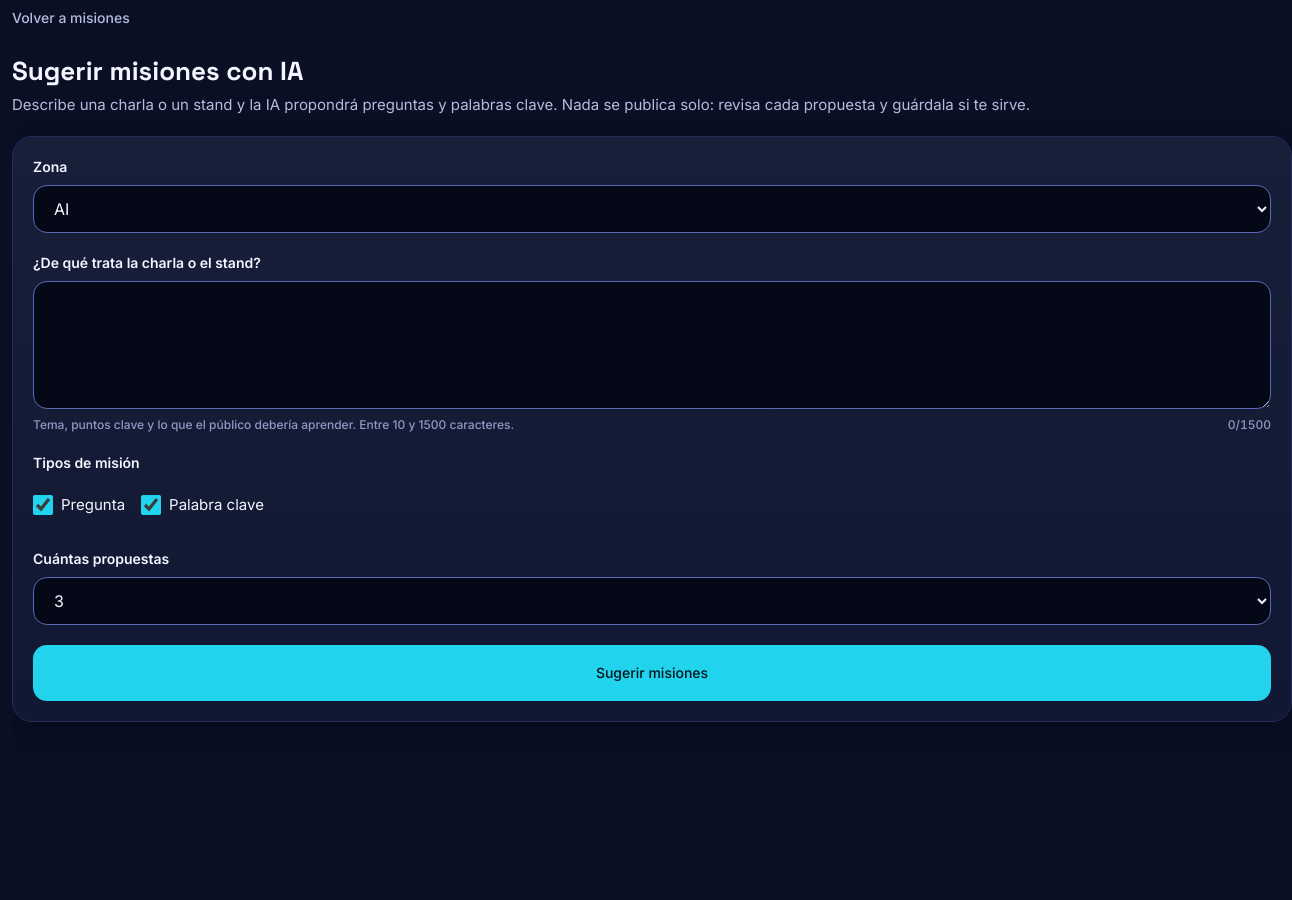
SuggestMissionsView › checks the topic and the types before asking
In the text box labelled "¿De qué trata la charla o el stand?": (652, 345) top-left (33, 281), bottom-right (1271, 409), type "corto"
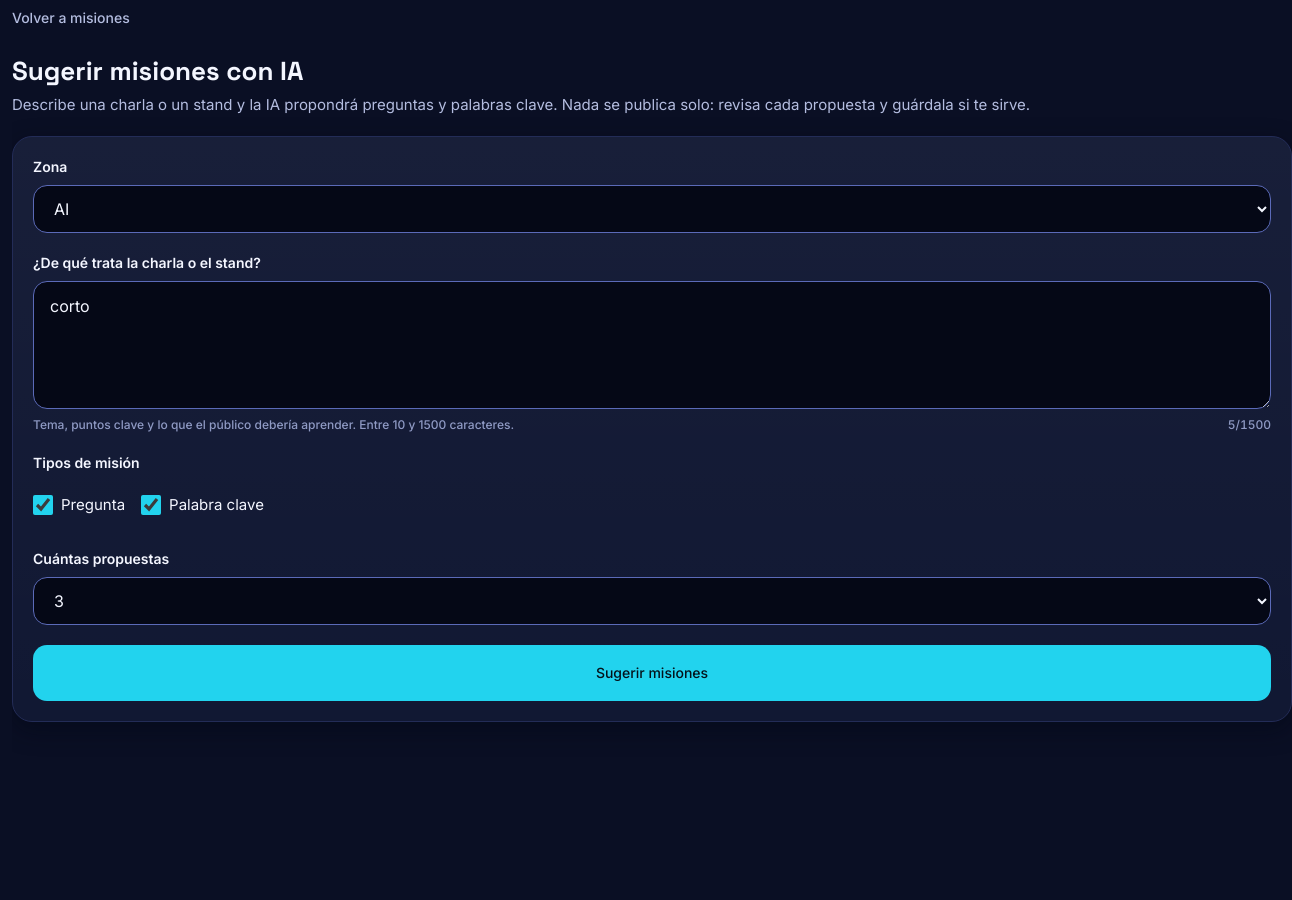
Click the button "Sugerir misiones": click(652, 673) top-left (33, 645), bottom-right (1271, 701)
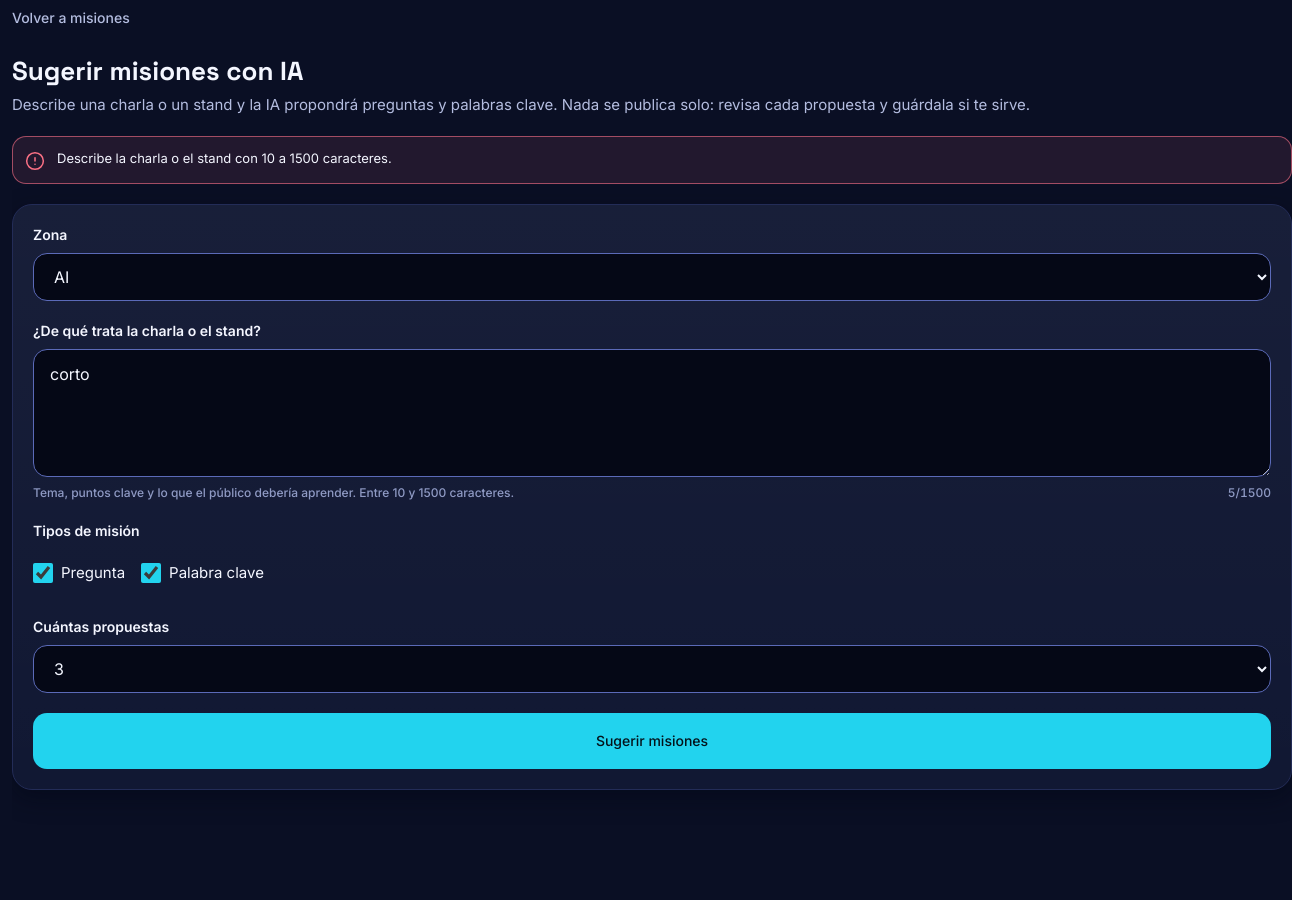
Expected: the message reads "Describe la charla o el stand con 10 a 1500 caracteres.", top-left (57, 150), bottom-right (392, 166)
Click the checkbox labelled "Pregunta": click(43, 573) top-left (33, 563), bottom-right (53, 583)
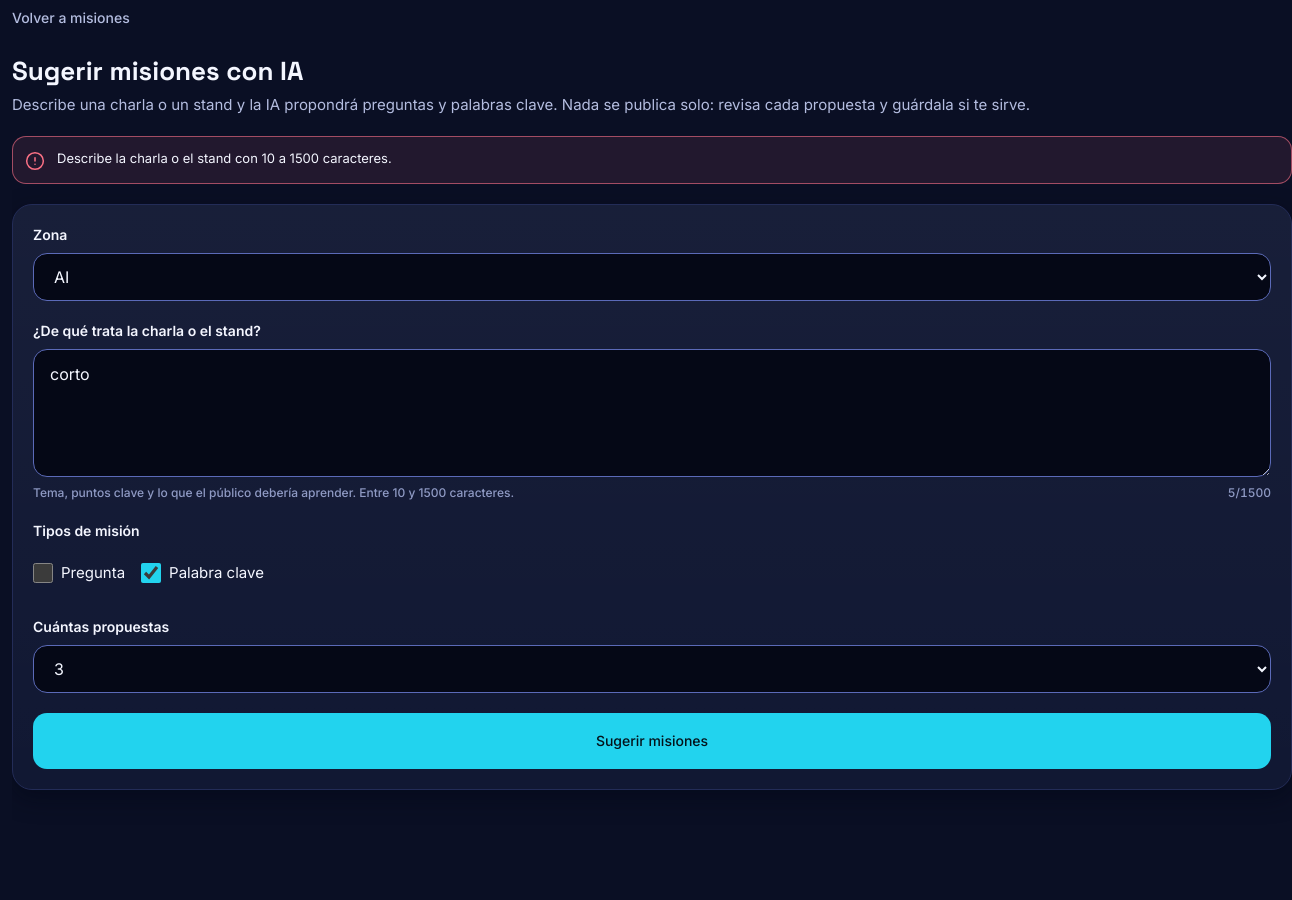
Click the checkbox labelled "Palabra clave": click(151, 573) top-left (141, 563), bottom-right (161, 583)
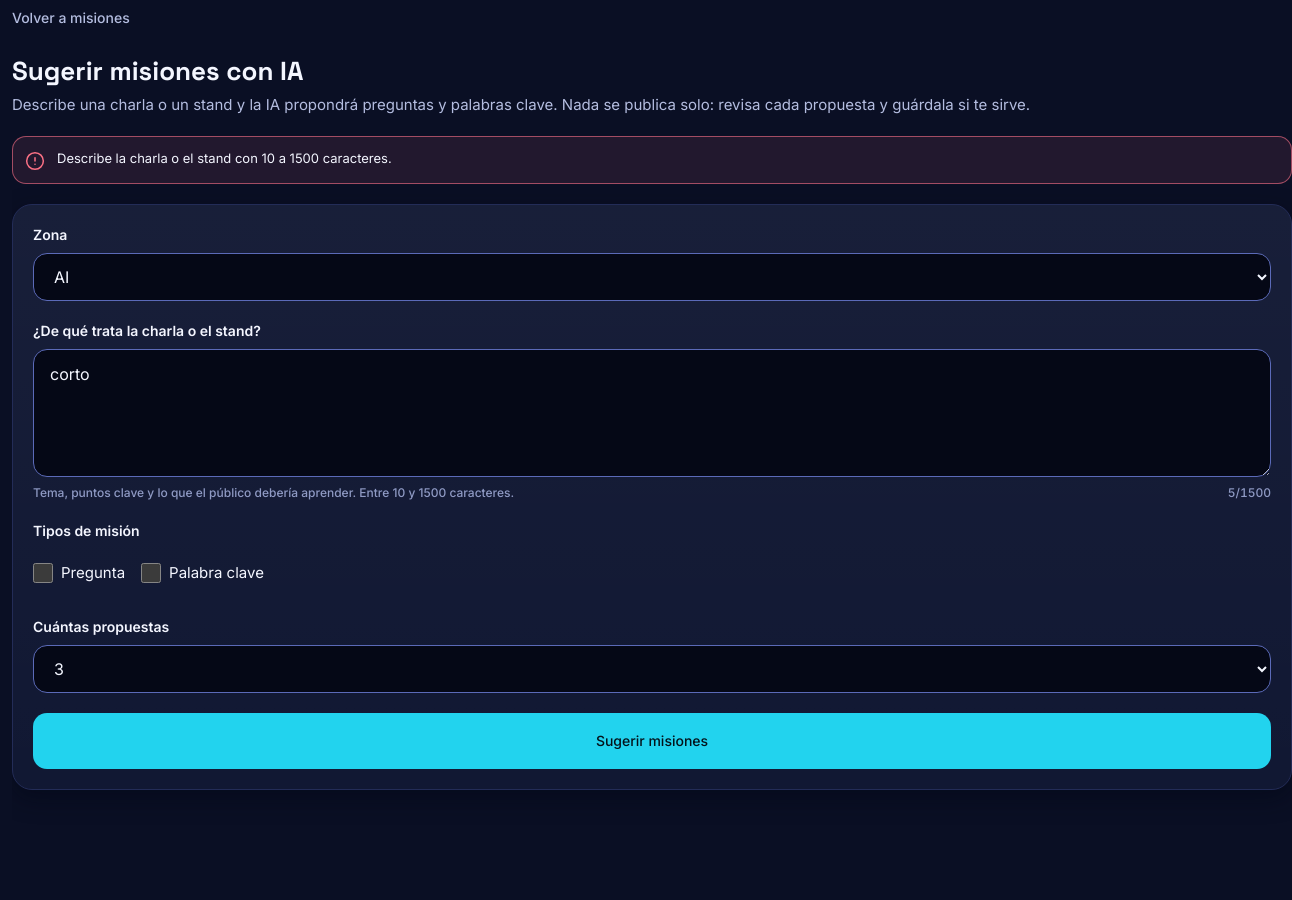
Replace the text in the text box labelled "¿De qué trata la charla o el stand?" with "Charla sobre Gemini y agentes": (652, 413) top-left (33, 349), bottom-right (1271, 477)
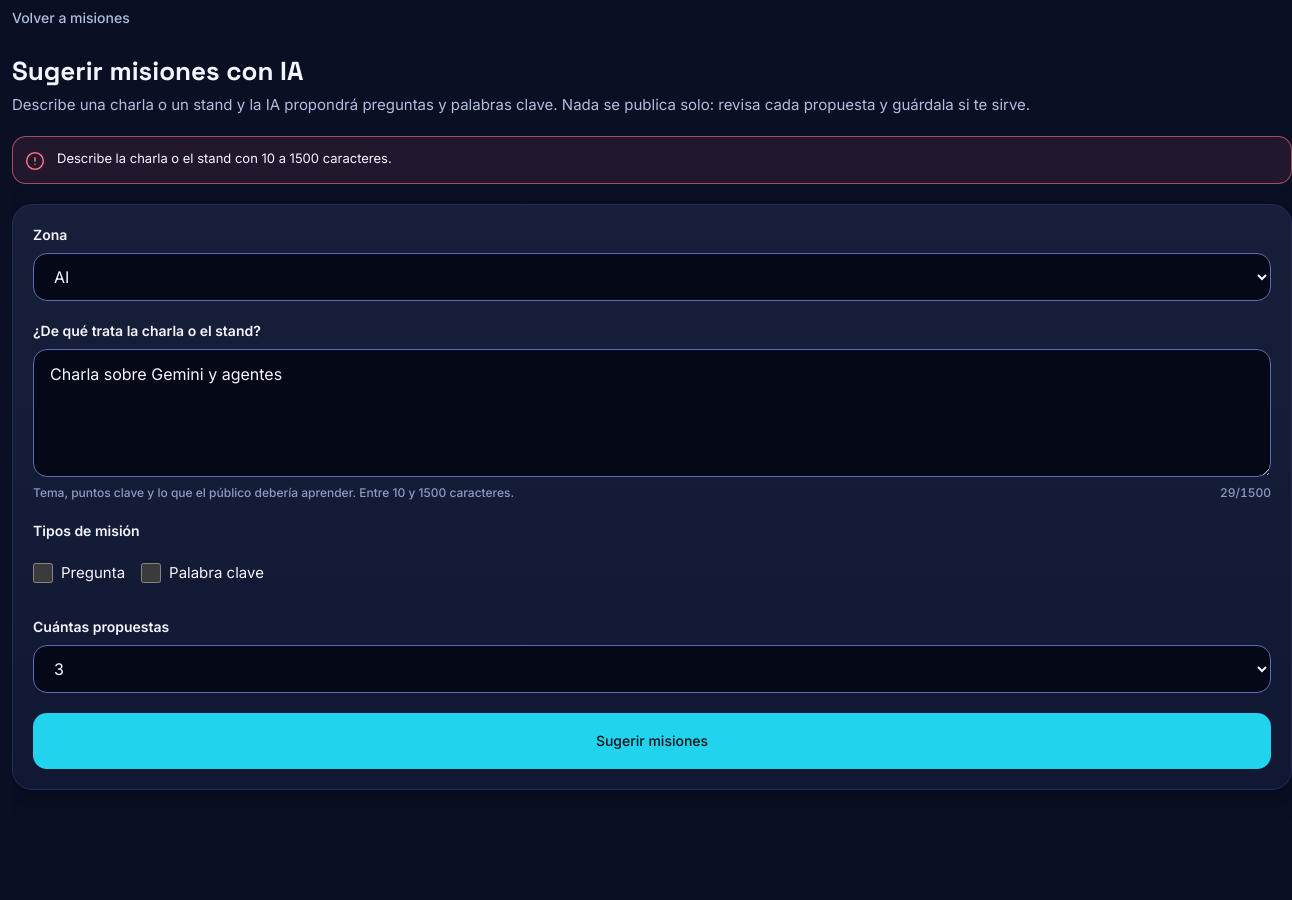
Click the button "Sugerir misiones": click(652, 741) top-left (33, 713), bottom-right (1271, 769)
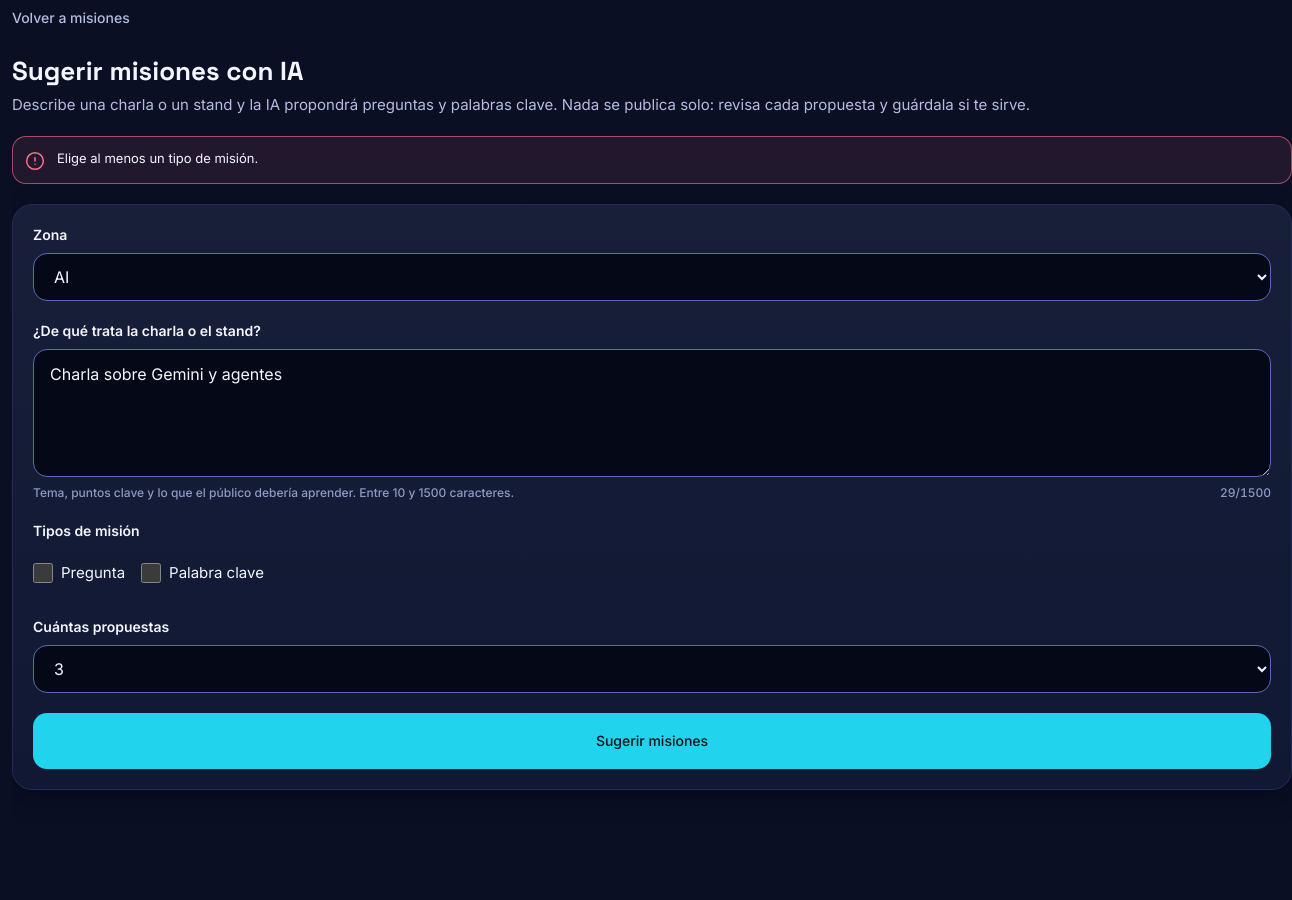
Expected: the message reads "Elige al menos un tipo de misión.", top-left (57, 150), bottom-right (258, 166)
